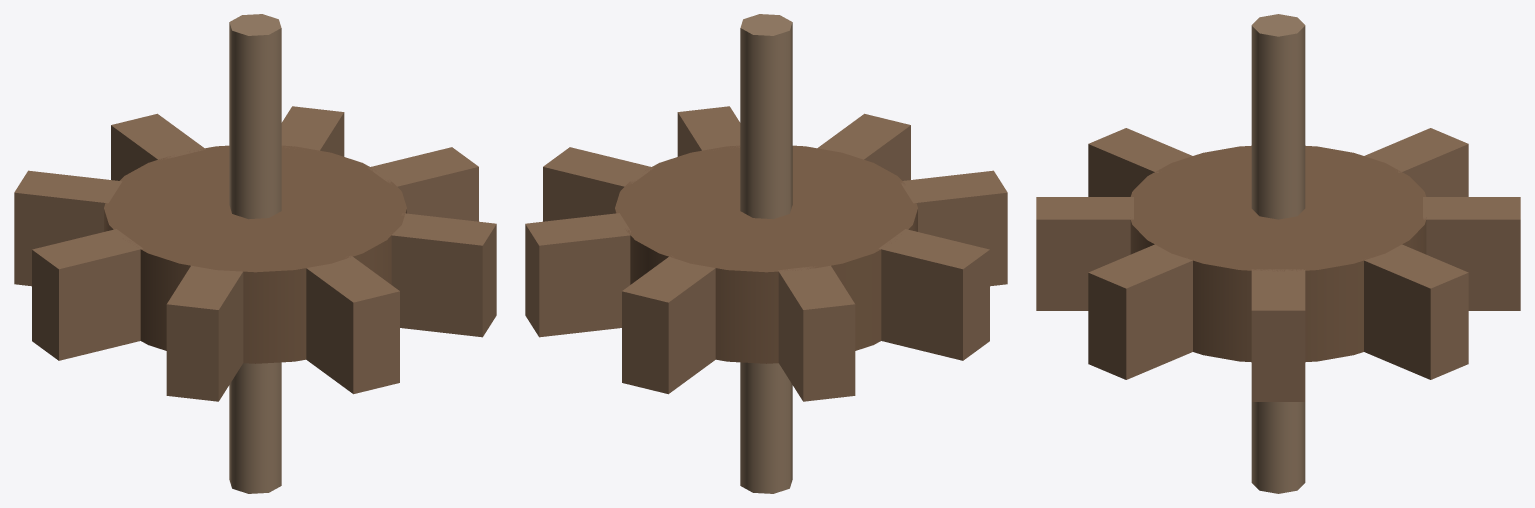
File: cogwheel.obj
3 renders of one model, left to right at view 1: azimuth 30°, elevation 25°; view 2: azimuth 150°, elevation 25°; view 3: azimuth 270°, elevation 25°, orthographic.
Parts seen in each view (by area): view 1: cogwheel; view 2: cogwheel; view 3: cogwheel.
Part boxes in pixels (x1,y1,x2,y2): cogwheel: (14,14,496,493); cogwheel: (525,14,1007,493); cogwheel: (1036,14,1520,493).
Size of the model in its own units: 1.44 by 1.5 by 1.44.
